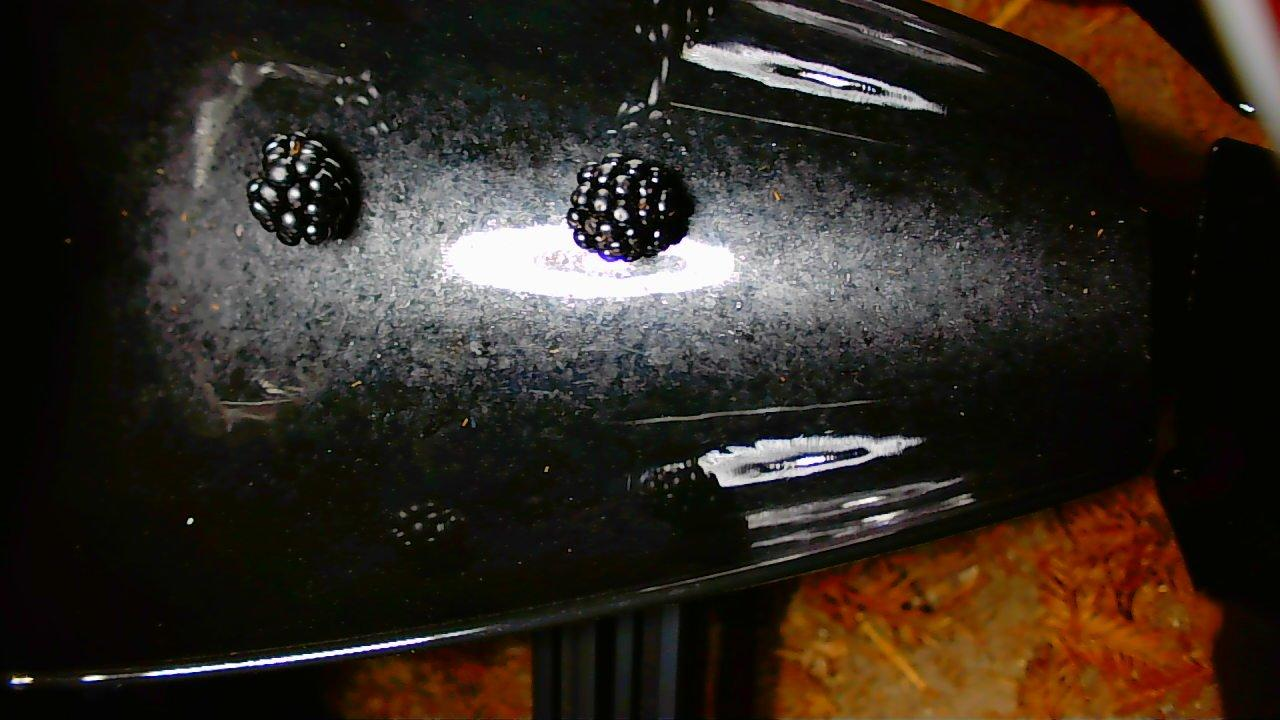berry: (566, 154, 692, 261), (246, 132, 356, 245)
